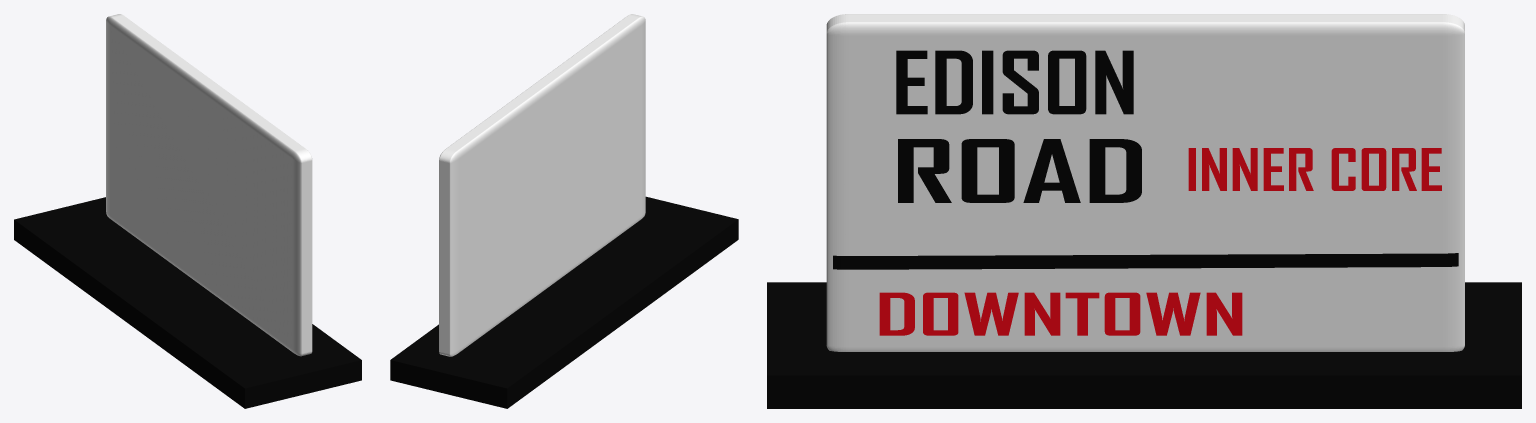
Rendered from uk_styled_street_sign_67.fbx.
3 renders of one model, left to right at view 1: azimuth 30°, elevation 25°; view 2: azimuth 150°, elevation 25°; view 3: azimuth 270°, elevation 25°, orthographic. The views are drawn at different scales.
Parts seen in each view (by area): view 1: Cube, Cube.001; view 2: Cube, Cube.001; view 3: Cube, Cube.001, Text.002, Text.001, Text, Text.003.
Part boxes in pixels (x1=…): Cube: x1=106, y1=14, x2=312, y2=356; Cube.001: x1=14, y1=197, x2=361, y2=408; Cube: x1=439, y1=14, x2=645, y2=356; Cube.001: x1=390, y1=196, x2=738, y2=408; Cube: x1=826, y1=14, x2=1464, y2=351; Cube.001: x1=767, y1=282, x2=1521, y2=408; Text.002: x1=879, y1=292, x2=1242, y2=335; Text.001: x1=898, y1=139, x2=1141, y2=202; Text: x1=896, y1=50, x2=1133, y2=114; Text.003: x1=1188, y1=148, x2=1441, y2=190.
Bounding box in the file's own units: 12 × 21.71 × 41.07.
